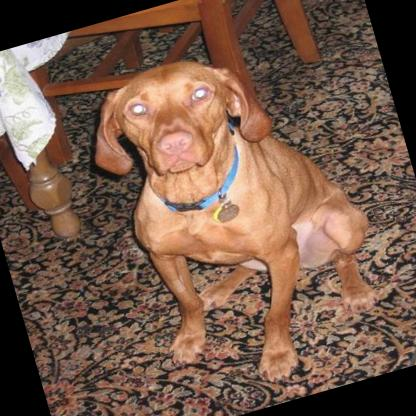vizsla: (75, 19, 407, 410)
